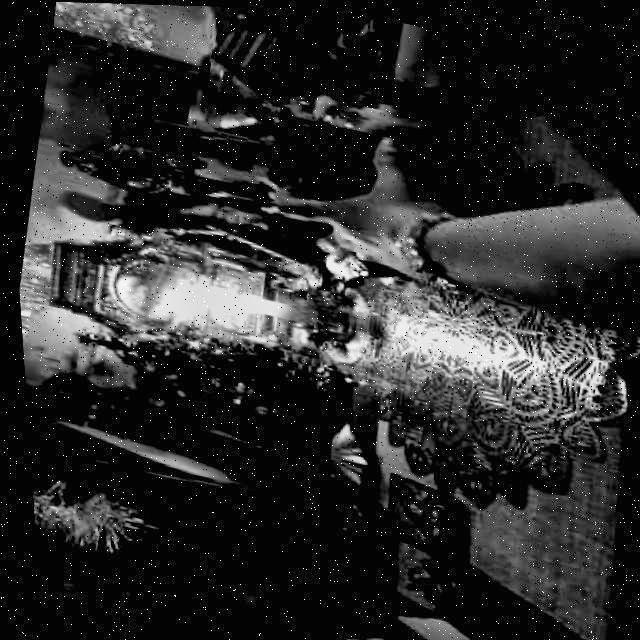Smoke: (167, 271, 240, 318)
